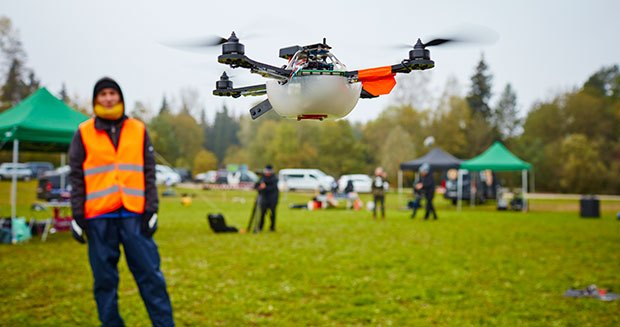drone: (158, 24, 503, 123), (564, 277, 620, 306)
person: (66, 75, 179, 327), (244, 164, 286, 236), (412, 161, 439, 226), (367, 167, 394, 226), (313, 178, 358, 201)
